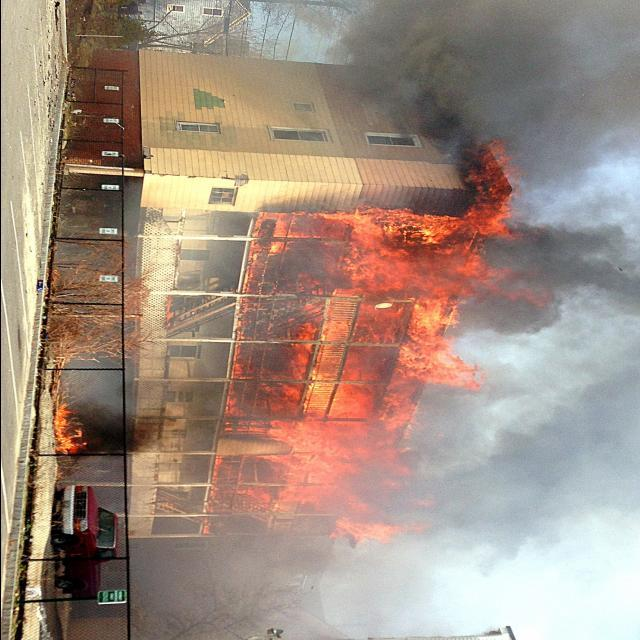Fire: (219, 154, 511, 596)
